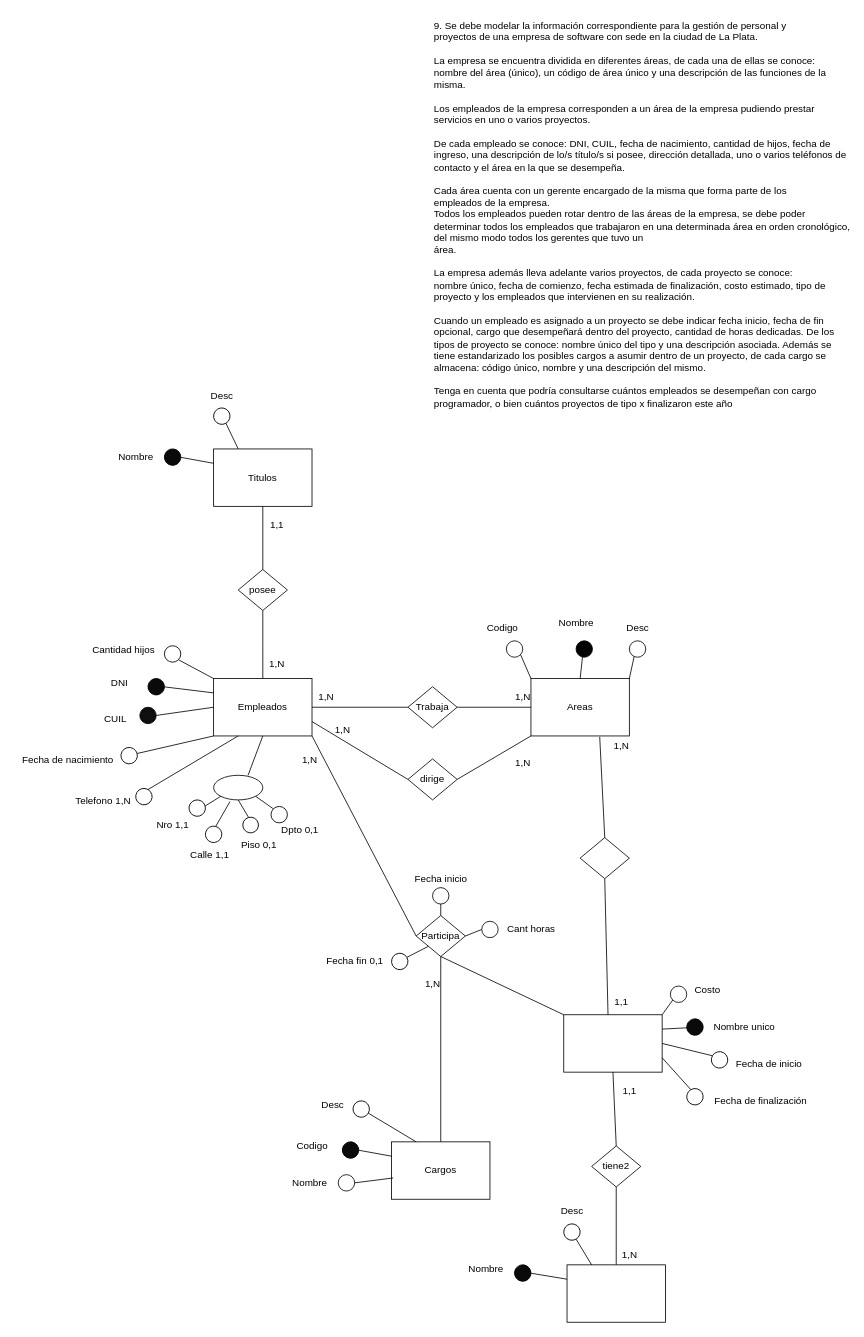
This 864x1337 diagram has some shape labels left out. The shapes that lost their labels are listed below. From the top down, each one's centre as x and y in pixels, then its label:
At (238,787): "Direccion".
At (604,858): "tiene".
At (612,1043): "Proyectos".
At (615,1293): "Tipos".
